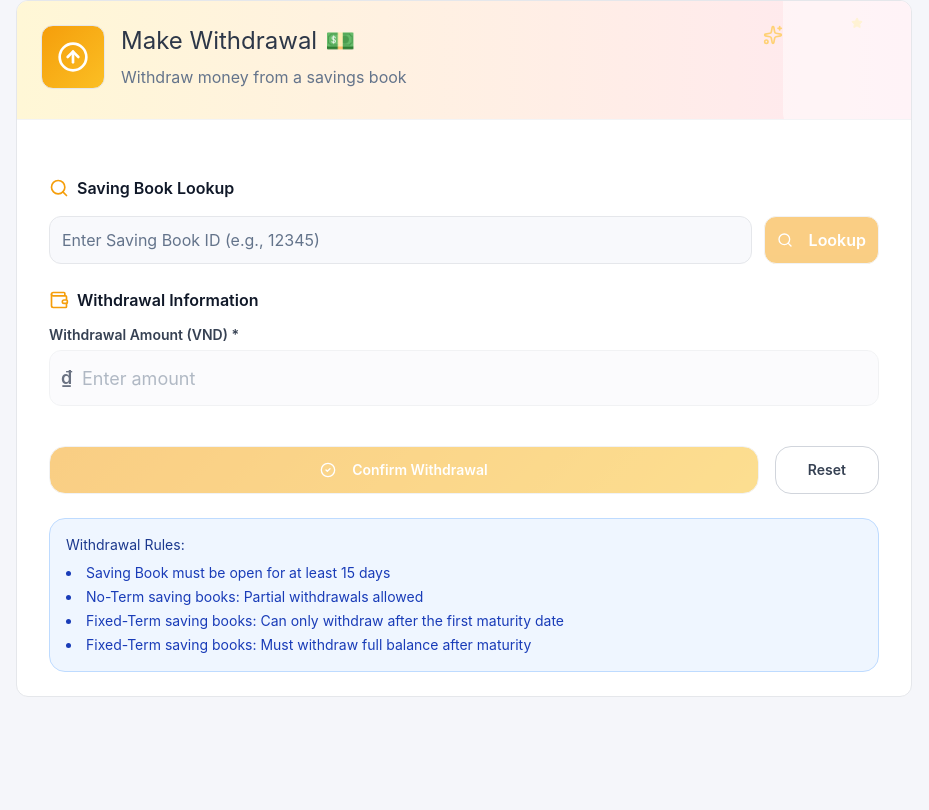
Test: UC07 - Make Withdrawal › Validation - No Term Account › should reject withdrawal from closed account
Expected: the button "Lookup" is shown, x1=764 y1=216 x2=879 y2=264
Step 1. Type "12345" into the field with placeholder "Enter Saving Book ID (e.g., 12345)" → (400, 240), box x1=49 y1=216 x2=752 y2=264
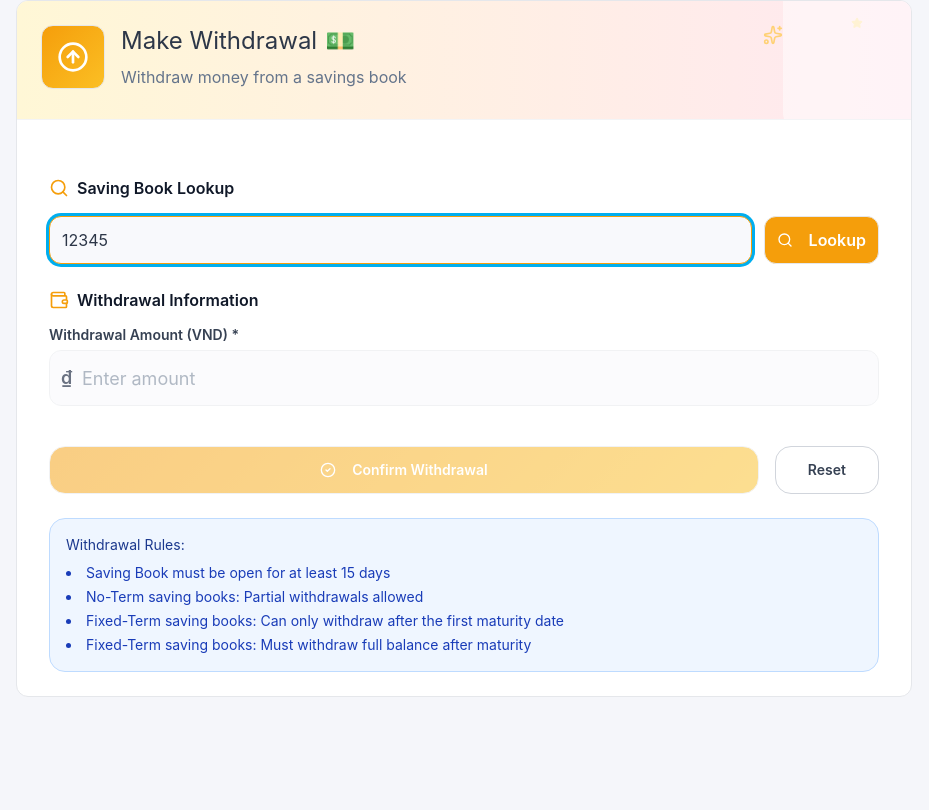
Step 2. Click the button "Lookup" → (821, 240), box x1=764 y1=216 x2=879 y2=264
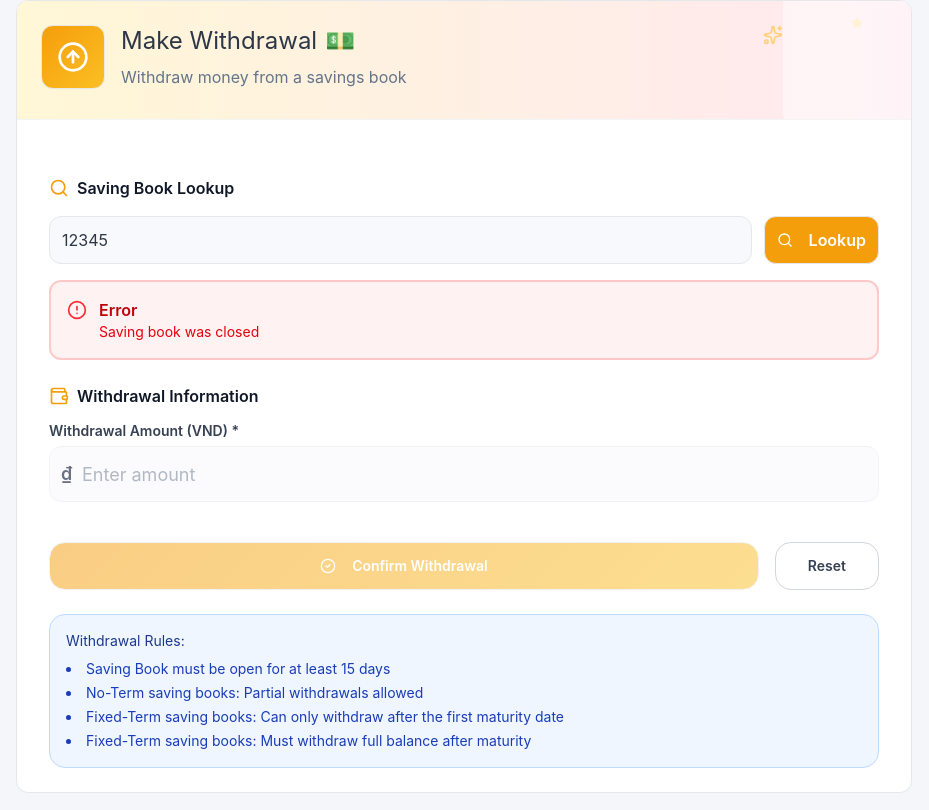
Result: the text "Saving book was closed" is shown at x1=99 y1=322 x2=259 y2=342
